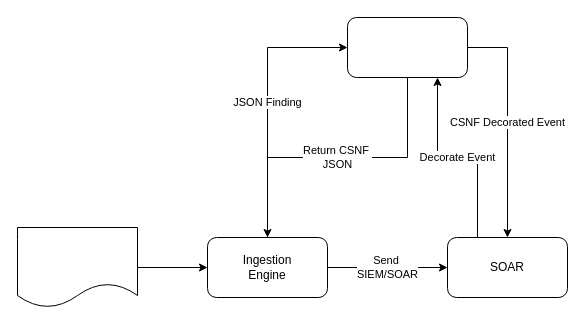
Some shapes in this 585 by 325 pixel diagram are drawn without their labels. Here are the shapes that lost their labels. From the top down, the centre of each, then its label:
(x=407, y=47): CSNF
(x=77, y=267): Finding
